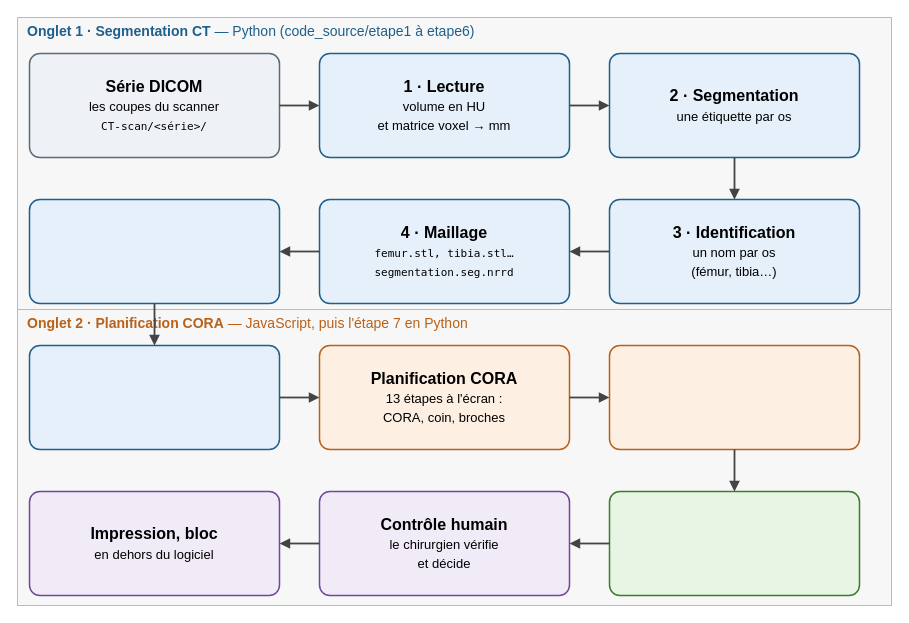
This 909x623 diagram has some shape labels left out. Here are the shapes that lost their labels. From the top down, the box of each, then its label:
(28, 198, 280, 304): 5 · Contrôle rapport.md / .json aperçus PNG
(28, 344, 280, 450): 6 · Repères cora_<os>.json repère, côté, angles
(608, 344, 860, 450): Prescription prescription.json plans, charnière, T
(608, 490, 860, 596): 7 · Guides guide_coupe.stl guide.json , plans 2D
